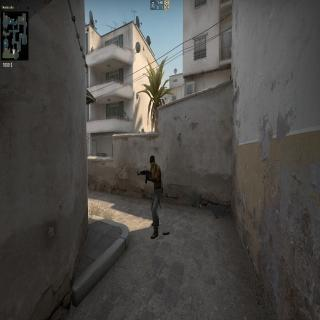T-Head: (149, 154, 156, 169)
